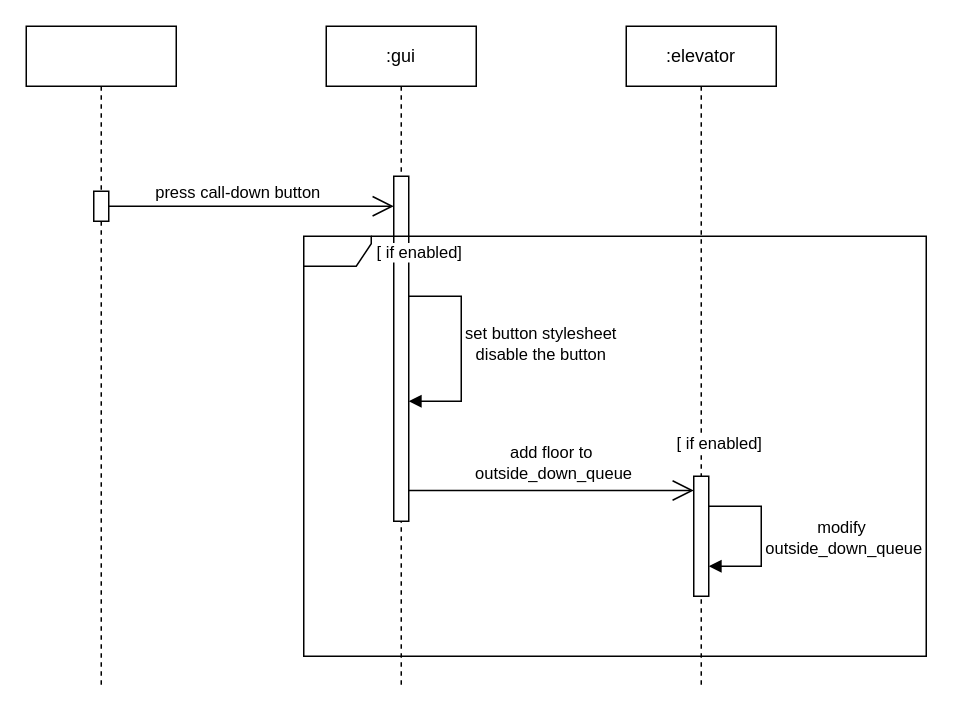
The diagram is 953 pixels wide and 713 high, and some of its shapes have lost their labels. The shapes that lost their labels are listed below. From the top down, each one's box as (x1, y1, x2, y2) in pixels, then its label:
(25, 25, 176, 686): :passenger
(302, 235, 926, 656): opt
